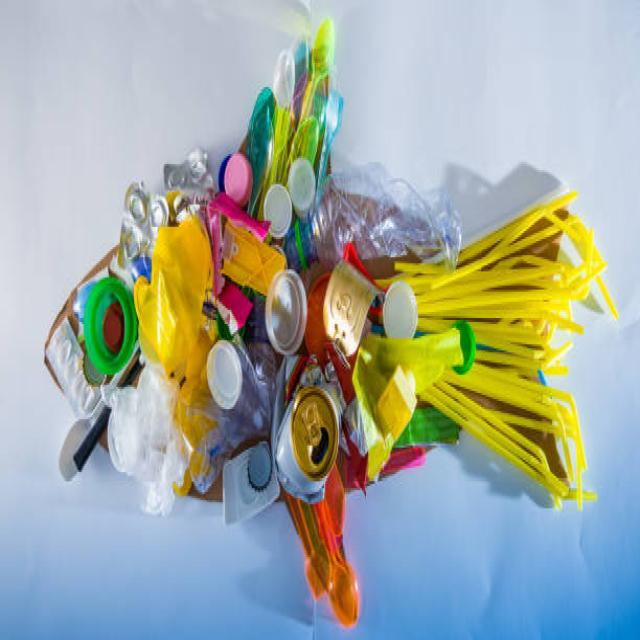metal: (267, 387, 348, 510)
plastic: (46, 2, 272, 525)
